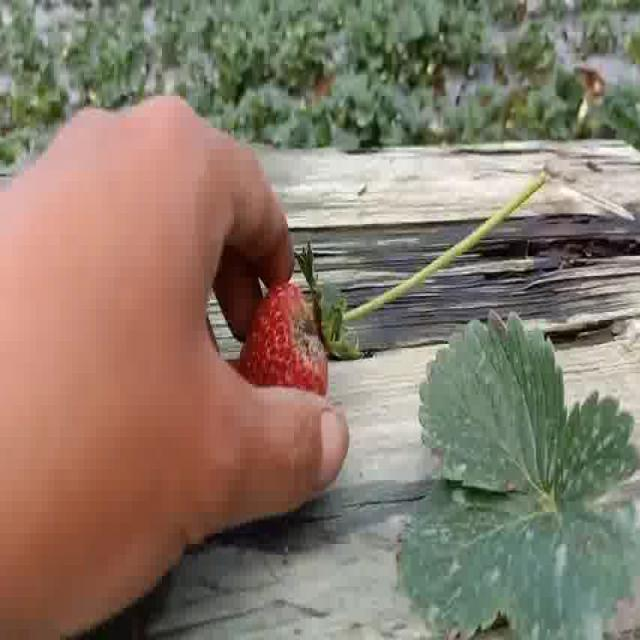Mancha negra Antracnosis: (242, 276, 340, 426)
